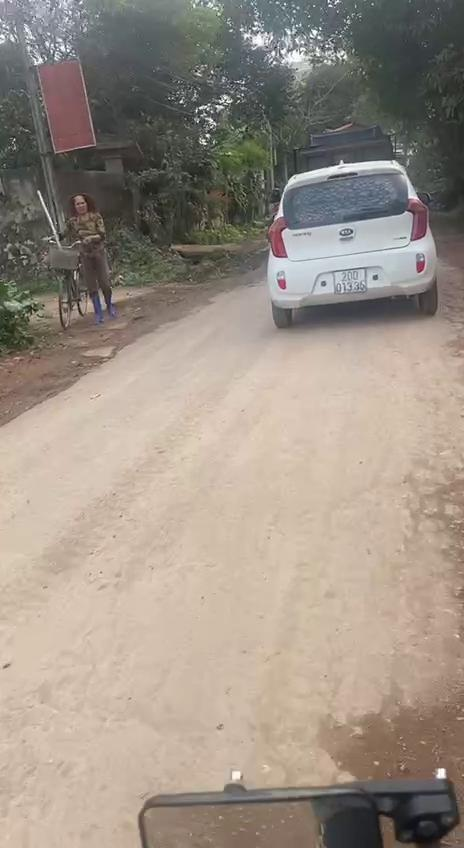pothole: (304, 690, 464, 796)
